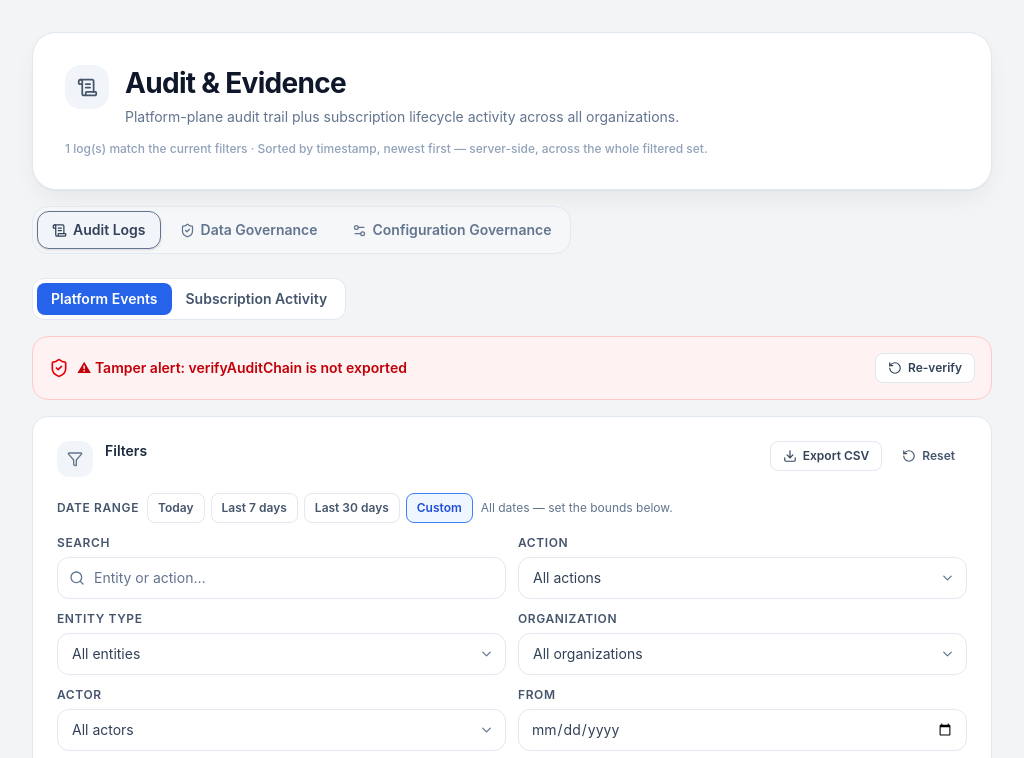
AuditLogsPage › reports a non-JSON export response as a failure, not 'nothing to export'
This screenshot has width=1024, height=758.
Click the button "Export CSV" at (826, 456), box [770,441,882,471]
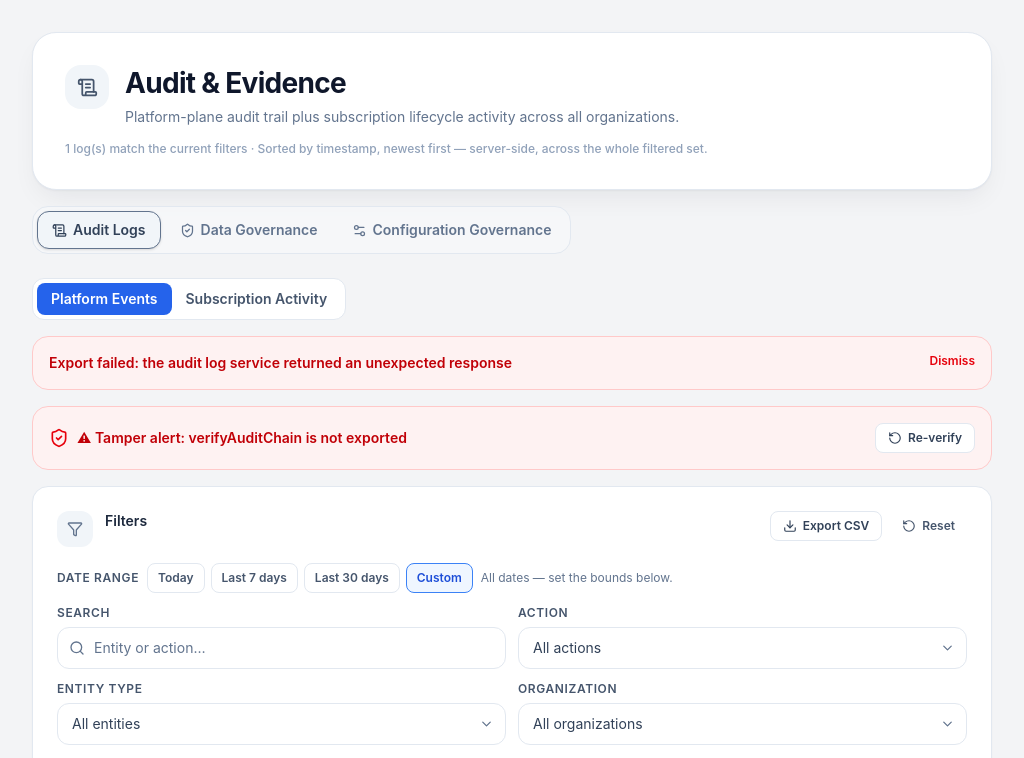
expect the message "Export failed: the audit log service returned an unexpected response Dismiss" is shown: met, box [32,336,992,390]
